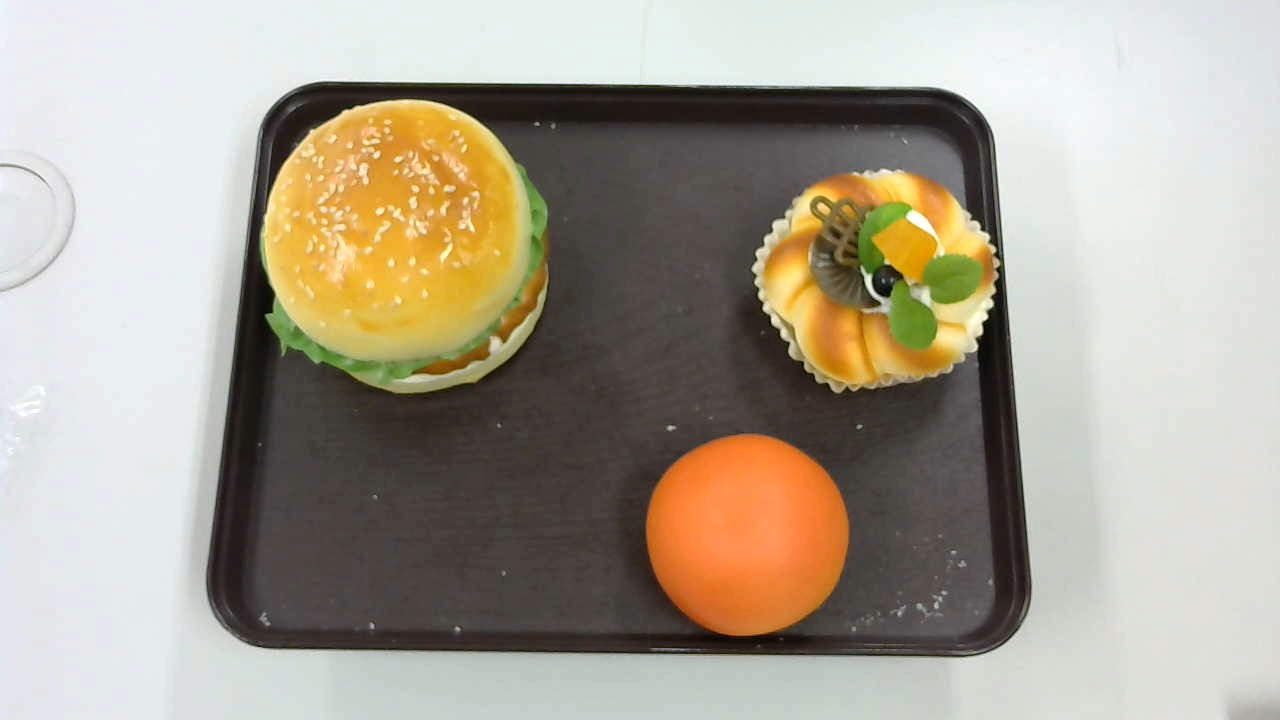bun: (644, 431, 851, 638)
fruit tart: (751, 166, 1002, 395)
hamburger: (259, 98, 551, 393)
